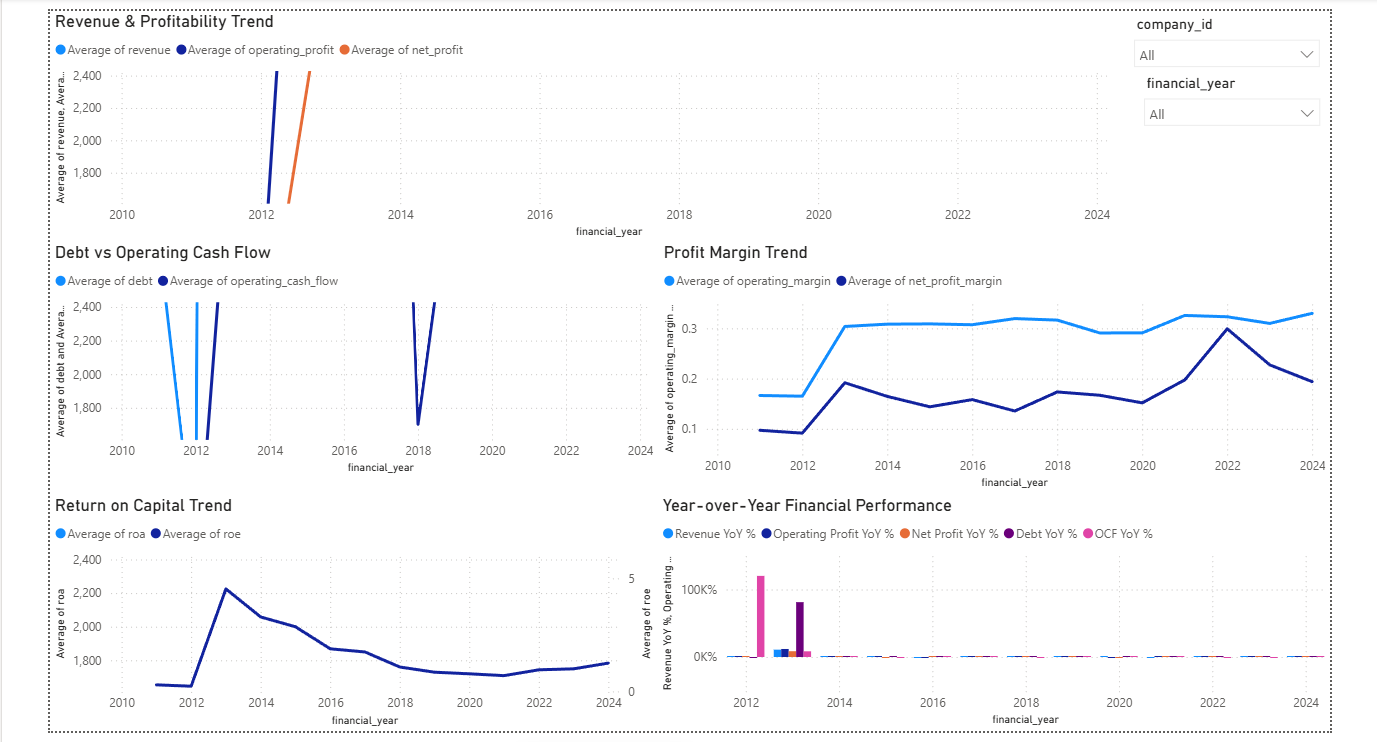

What the dashboard file says about the page in this screenshot:
{"tool":"powerbi","page":{"name":"Financial Performance","canvas":[1280,720],"ordinal":2},"visuals":[{"type":"lineChart","title":"Revenue & Profitability Trend","fields":{"Category":["credit_risk_analysis credit_risk_data.financial_year"],"Y":["Avg(credit_risk_analysis credit_risk_data.revenue)","Avg(credit_risk_analysis credit_risk_data.operating_profit)","Avg(credit_risk_analysis credit_risk_data.net_profit)"]},"box":[0,0,1065,231.7],"z":0},{"type":"lineChart","title":"Debt vs Operating Cash Flow","fields":{"Category":["credit_risk_analysis credit_risk_data.financial_year"],"Y":["Avg(credit_risk_analysis credit_risk_data.debt)","Avg(credit_risk_analysis credit_risk_data.operating_cash_flow)"]},"box":[0,231.7,608.3,236.7],"z":1000},{"type":"lineChart","title":"Profit Margin Trend","fields":{"Category":["credit_risk_analysis credit_risk_data.financial_year"],"Y":["Avg(credit_risk_analysis credit_risk_data.operating_margin)","Avg(credit_risk_analysis credit_risk_data.net_profit_margin)"]},"box":[608.3,231.7,671.7,251.7],"z":2000},{"type":"lineChart","title":"Return on Capital Trend","fields":{"Category":["credit_risk_analysis credit_risk_data.financial_year"],"Y":["Avg(credit_risk_analysis credit_risk_data.roa)"],"Y2":["Avg(credit_risk_analysis credit_risk_data.roe)"]},"box":[0,483.3,608.3,236.7],"z":3000},{"type":"slicer","fields":{"Values":["credit_risk_analysis credit_risk_data.company_id"]},"box":[1073.8,0,205.8,91.3],"z":4000},{"type":"slicer","fields":{"Values":["credit_risk_analysis credit_risk_data.financial_year"]},"box":[1083.5,59.2,196.1,64.1],"z":5000},{"type":"clusteredColumnChart","title":"Year-over-Year Financial Performance","fields":{"Category":["credit_risk_analysis credit_risk_data.financial_year"],"Y":["Risk Drivers.Revenue YoY %","Risk Drivers.Operating Profit YoY %","Risk Drivers.Net Profit YoY %","Risk Drivers.Debt YoY %","Risk Drivers.OCF YoY %"]},"box":[608,484,672,236],"z":5001}]}

Visuals, with their boxes on the page's 1280x720 design canvas (x1, y1, x2, y2). These are canvas units, not pixel positions in the 1377x742 screenshot, which may show the page scaled, cropped or inside an application window:
"Revenue & Profitability Trend" lineChart: (x1=0, y1=0, x2=1065, y2=232)
"Debt vs Operating Cash Flow" lineChart: (x1=0, y1=232, x2=608, y2=468)
"Profit Margin Trend" lineChart: (x1=608, y1=232, x2=1280, y2=483)
"Return on Capital Trend" lineChart: (x1=0, y1=483, x2=608, y2=720)
slicer - credit_risk_analysis credit_risk_data.company_id: (x1=1074, y1=0, x2=1280, y2=91)
slicer - credit_risk_analysis credit_risk_data.financial_year: (x1=1084, y1=59, x2=1280, y2=123)
"Year-over-Year Financial Performance" clusteredColumnChart: (x1=608, y1=484, x2=1280, y2=720)
